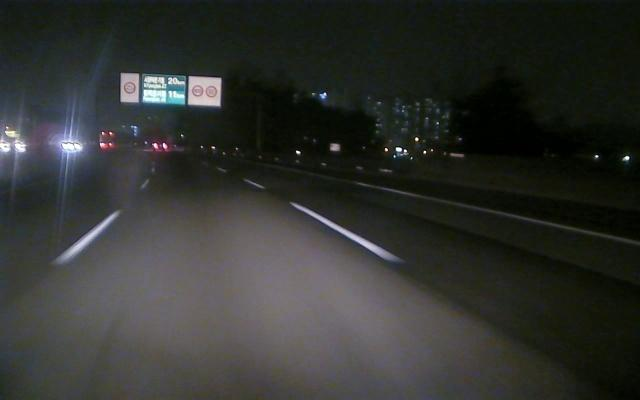lane: (350, 181, 638, 247), (245, 177, 403, 263), (52, 179, 150, 264)
